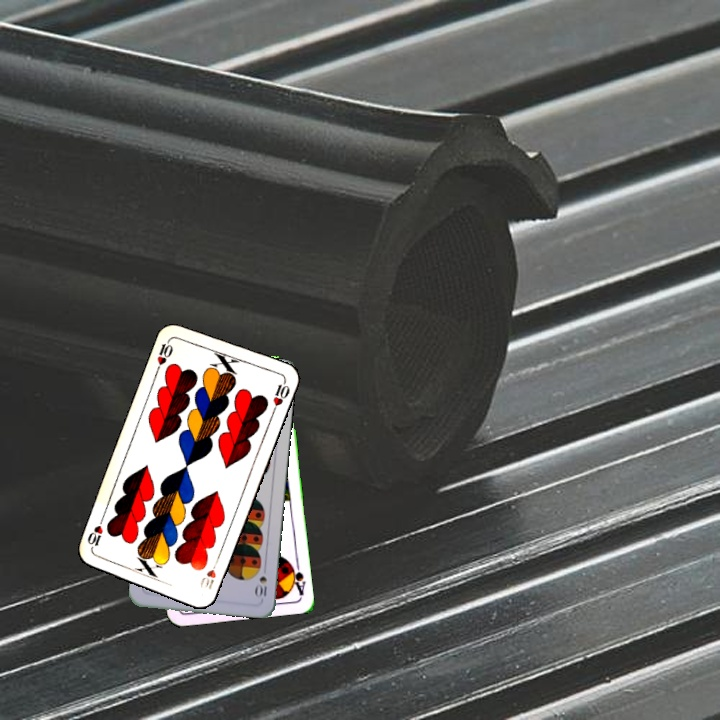H10: (196, 555, 221, 592), (152, 335, 175, 374)
S10: (252, 561, 269, 600)
SA: (286, 557, 308, 597)
